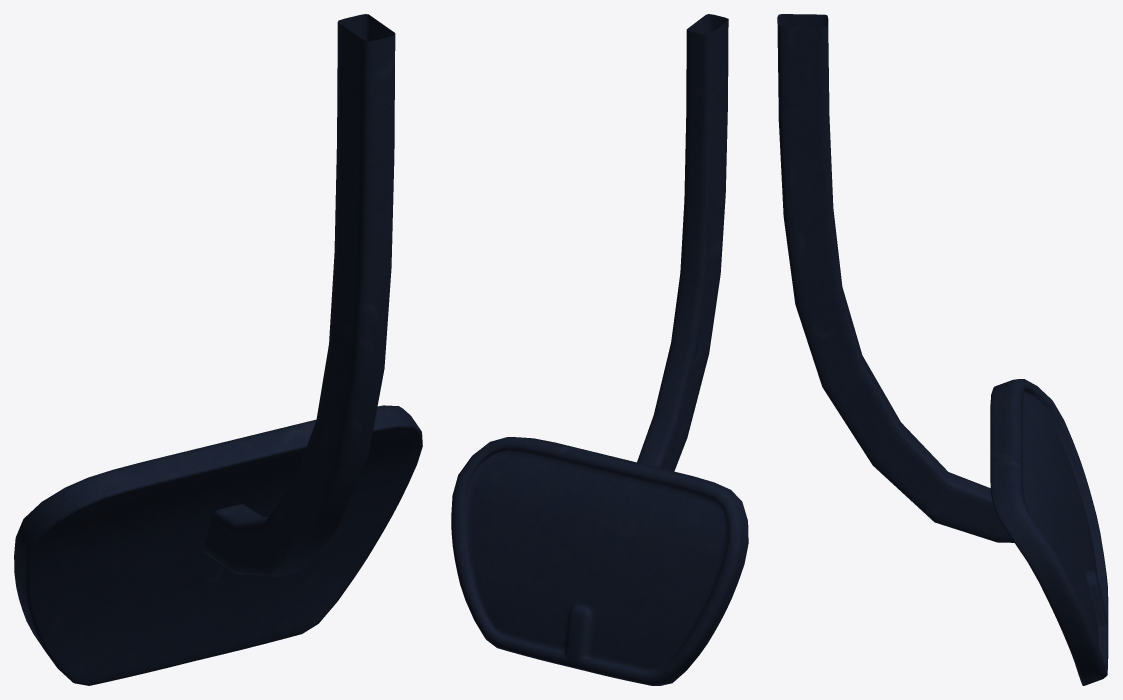
The picture shows the model from 3 angles, left to right: view 1: azimuth 30°, elevation 25°; view 2: azimuth 150°, elevation 25°; view 3: azimuth 270°, elevation 25°; orthographic projection. The views are drawn at different scales.
Visible parts, largest first — view 1: SM_Pandel; view 2: SM_Pandel; view 3: SM_Pandel.
Boxes of the visible parts, x1,y1,x2,y2 form: SM_Pandel: (14,14,422,685); SM_Pandel: (451,14,748,685); SM_Pandel: (777,14,1108,685).
Bounding box in the file's own units: 117 × 218 × 105.
Materials: 1 (1 with a texture image).
